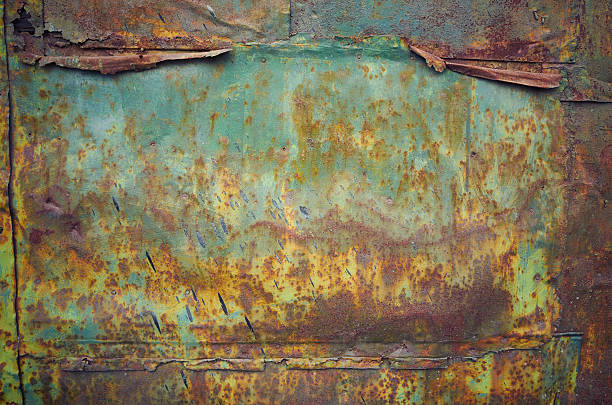rust: (128, 254, 527, 405), (15, 160, 121, 395), (527, 110, 612, 403), (8, 5, 248, 77), (391, 25, 577, 104)
